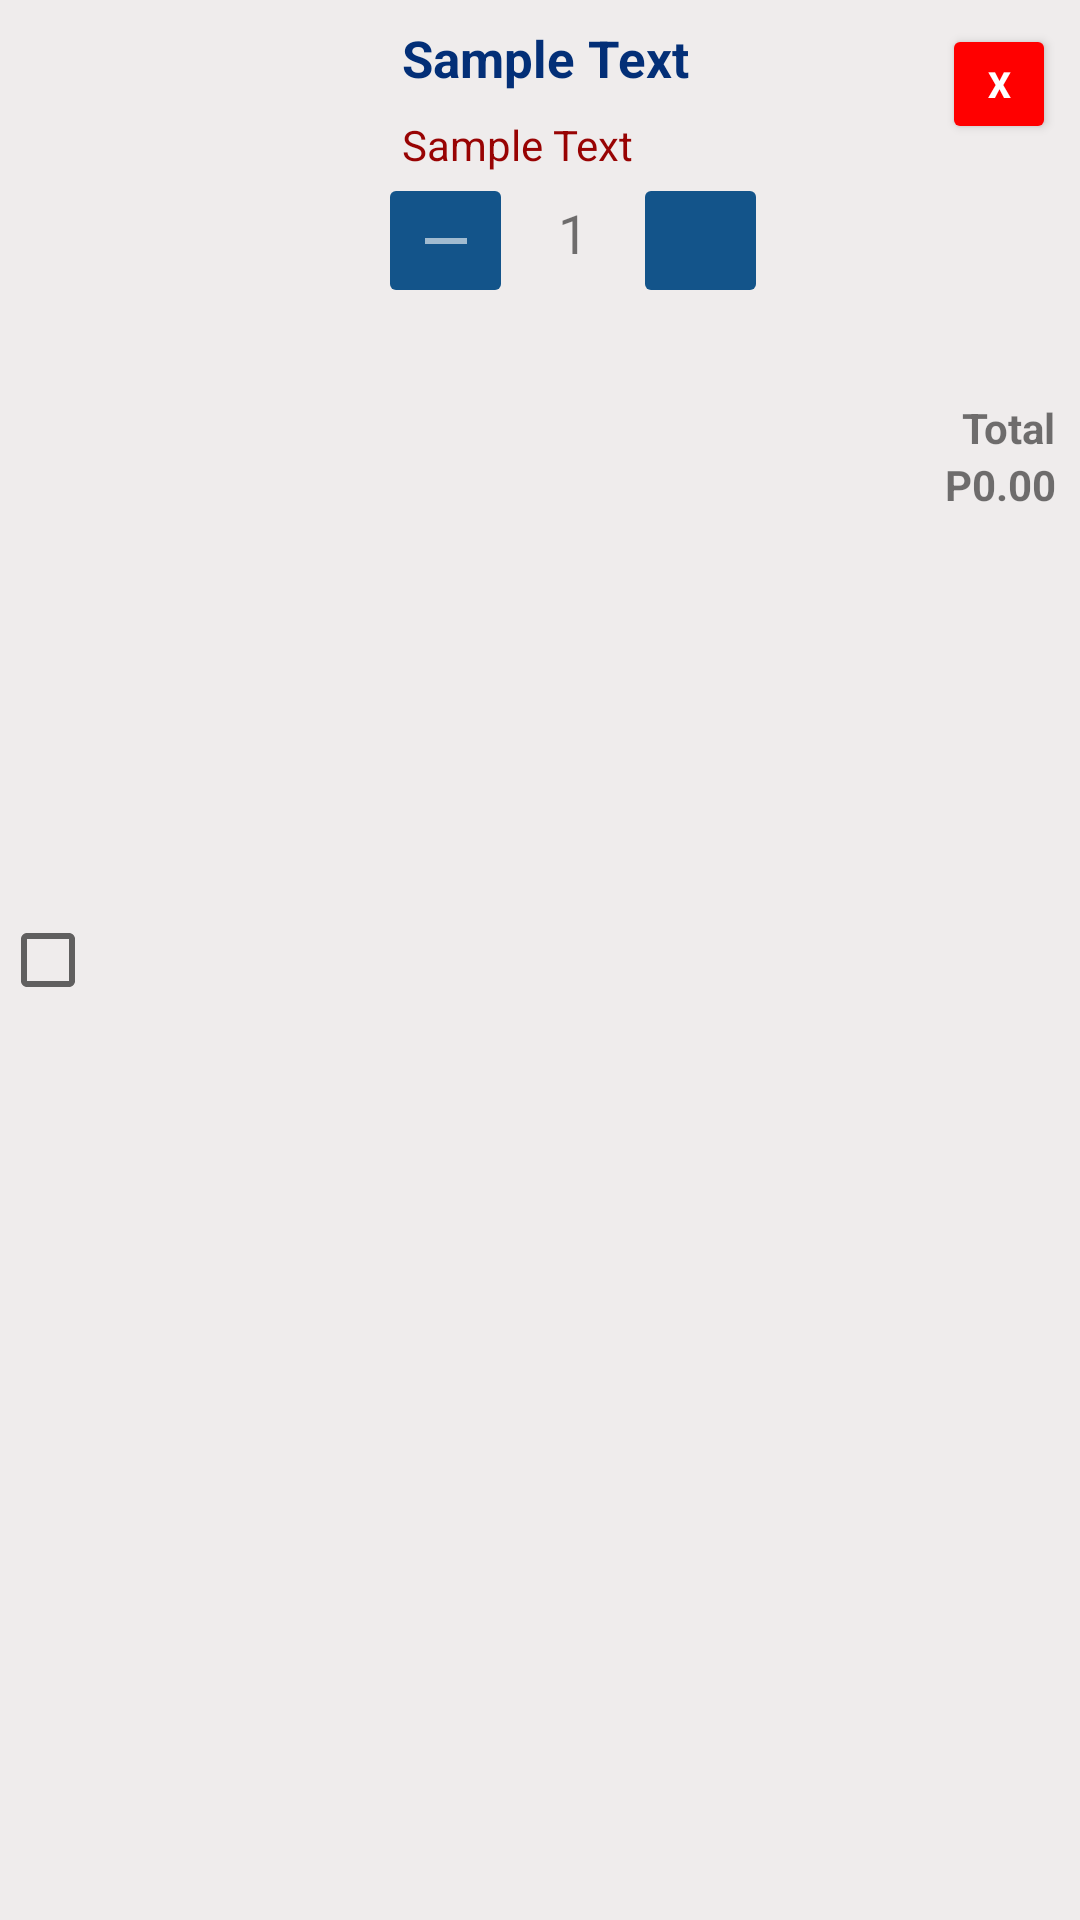

Icons on this 1080 × 1920 Android screen, each with its box as box=[x1, y1, x2, y2]:
subtract: box=[390, 191, 501, 290]
